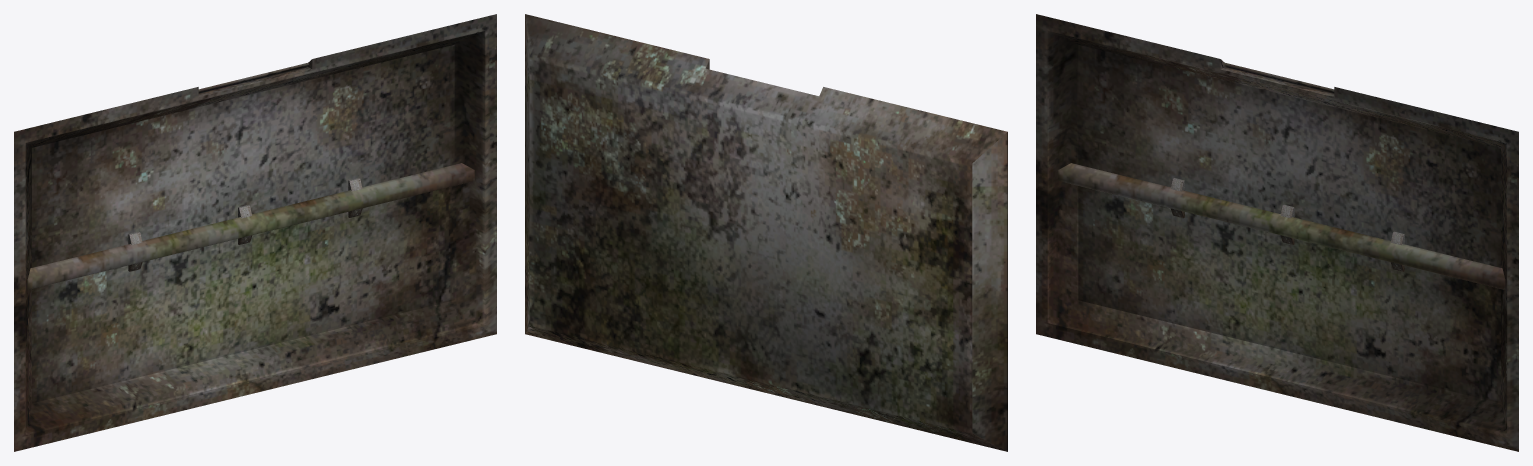
Rendered from crate_flesher_large_lid.DAE.
3 views of the same model, side by side, from view 1: azimuth 30°, elevation 25°; view 2: azimuth 150°, elevation 25°; view 3: azimuth 330°, elevation 25° (orthographic).
Visible parts, largest first — view 1: crate_flesher_large_lid; view 2: crate_flesher_large_lid; view 3: crate_flesher_large_lid.
Part boxes in pixels (x1,y1,x2,y2): crate_flesher_large_lid: (14, 14, 496, 451); crate_flesher_large_lid: (525, 14, 1007, 451); crate_flesher_large_lid: (1036, 14, 1518, 451).
Size of the model in its own units: 86.36 by 4.8 by 54.71.
